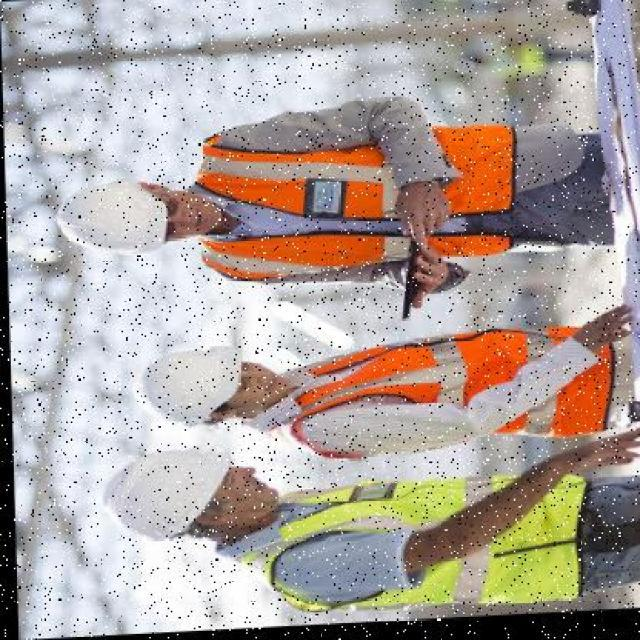helmet: (86, 443, 252, 557), (116, 337, 255, 438), (56, 175, 189, 273)
vest: (182, 109, 532, 291), (246, 462, 599, 628), (265, 315, 605, 469)
